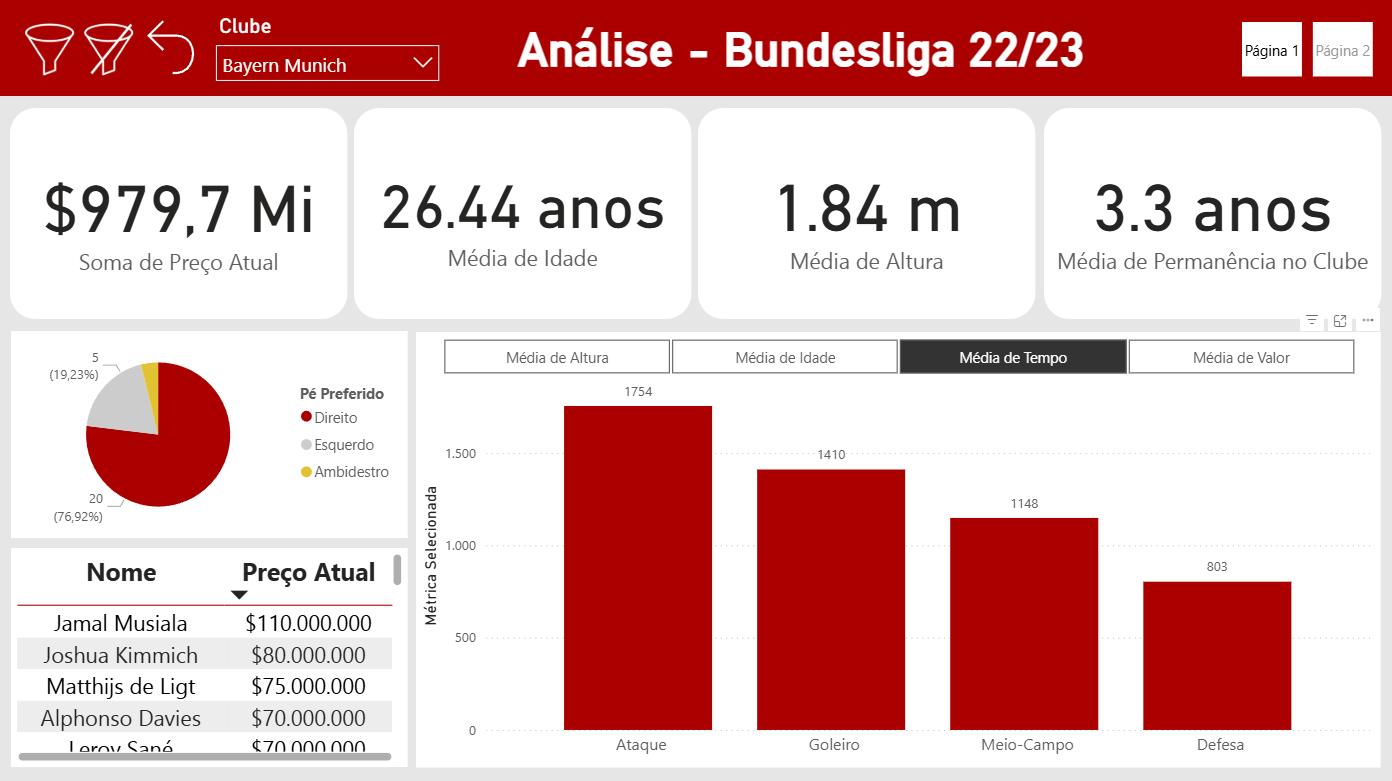

This screenshot's page, from the dashboard's own definition file:
{"tool":"powerbi","page":{"name":"Página 1","canvas":[1280,720],"ordinal":0},"visuals":[{"type":"textbox","box":[194.7,16.7,1085.3,60.7],"z":1000},{"type":"shape","box":[0,89.1,1280,630.1],"z":2000},{"type":"shape","box":[959.4,99.9,309.5,193.6],"z":3000},{"type":"tableEx","fields":{"Values":["bundesliga_player 2.Nome","Sum(bundesliga_player 2.Preço Atual)"]},"box":[11.7,504.1,364,200.6],"z":4000},{"type":"shape","box":[11.1,99.9,309.5,193.6],"z":5000},{"type":"card","fields":{"Values":["Sum(bundesliga_player 2.Preço Atual)"]},"box":[11.1,133.2,309.5,129.5],"z":6000},{"type":"clusteredColumnChart","title":"_","fields":{"Category":["bundesliga_player 2.Posição"],"Y":["Avg(bundesliga_player 2.Idade)"]},"box":[383.2,304.6,885.2,400.1],"z":7000},{"type":"pieChart","fields":{"Category":["bundesliga_player 2.Pé Preferido"],"Y":["CountNonNull(bundesliga_player 2.Pé Preferido)"]},"box":[11.7,304.6,364,190],"z":8000},{"type":"card","fields":{"Values":["bundesliga_player.Média de Permanência no Clube","select","select1"]},"box":[959.4,131.9,309.5,129.5],"z":9000},{"type":"textbox","box":[578.8,314.4,690,42.9],"z":10000},{"type":"shape","box":[326.8,99.9,309.5,193.6],"z":11000},{"type":"card","fields":{"Values":["bundesliga_player.Média de Idade (com texto)"]},"box":[326.8,131.9,309.5,129.5],"z":12000},{"type":"pageNavigator","box":[1141.2,21.4,120.4,50],"z":13000},{"type":"actionButton","box":[126.8,8.5,64,71.2],"z":14000},{"type":"shape","box":[642.5,99.9,309.5,193.6],"z":15000},{"type":"card","fields":{"Values":["bundesliga_player.Média de Altura (m)"]},"box":[642.5,131.9,309.5,129.5],"z":16000},{"type":"image","box":[19.3,7.2,114.7,77.3],"z":17000},{"type":"actionButton","box":[19.3,8.5,58,68.8],"z":18000},{"type":"actionButton","box":[76.1,8.5,58,68.8],"z":19000},{"type":"slicer","fields":{"Values":["bundesliga_player 2.Clube"]},"box":[189.6,8.5,224.6,68.8],"z":19500}]}

Visuals, with their boxes in screenshot pixels (x1, y1, x2, y2), scaled from the page's 1280x720 canvas onto the 1392x781 screenshot:
textbox: {"left": 212, "top": 18, "right": 1391, "bottom": 84}
shape: {"left": 0, "top": 97, "right": 1391, "bottom": 780}
shape: {"left": 1043, "top": 108, "right": 1380, "bottom": 318}
tableEx - bundesliga_player 2.Nome x Sum(bundesliga_player 2.Preço Atual): {"left": 13, "top": 547, "right": 409, "bottom": 764}
shape: {"left": 12, "top": 108, "right": 349, "bottom": 318}
card - Sum(bundesliga_player 2.Preço Atual): {"left": 12, "top": 144, "right": 349, "bottom": 285}
"_" clusteredColumnChart: {"left": 417, "top": 330, "right": 1379, "bottom": 764}
pieChart - bundesliga_player 2.Pé Preferido x CountNonNull(bundesliga_player 2.Pé Preferido): {"left": 13, "top": 330, "right": 409, "bottom": 537}
card - bundesliga_player.Média de Permanência no Clube x select: {"left": 1043, "top": 143, "right": 1380, "bottom": 284}
textbox: {"left": 629, "top": 341, "right": 1380, "bottom": 388}
shape: {"left": 355, "top": 108, "right": 692, "bottom": 318}
card - bundesliga_player.Média de Idade (com texto): {"left": 355, "top": 143, "right": 692, "bottom": 284}
pageNavigator: {"left": 1241, "top": 23, "right": 1372, "bottom": 77}
actionButton: {"left": 138, "top": 9, "right": 207, "bottom": 86}
shape: {"left": 699, "top": 108, "right": 1035, "bottom": 318}
card - bundesliga_player.Média de Altura (m): {"left": 699, "top": 143, "right": 1035, "bottom": 284}
image: {"left": 21, "top": 8, "right": 146, "bottom": 92}
actionButton: {"left": 21, "top": 9, "right": 84, "bottom": 84}
actionButton: {"left": 83, "top": 9, "right": 146, "bottom": 84}
slicer - bundesliga_player 2.Clube: {"left": 206, "top": 9, "right": 450, "bottom": 84}
